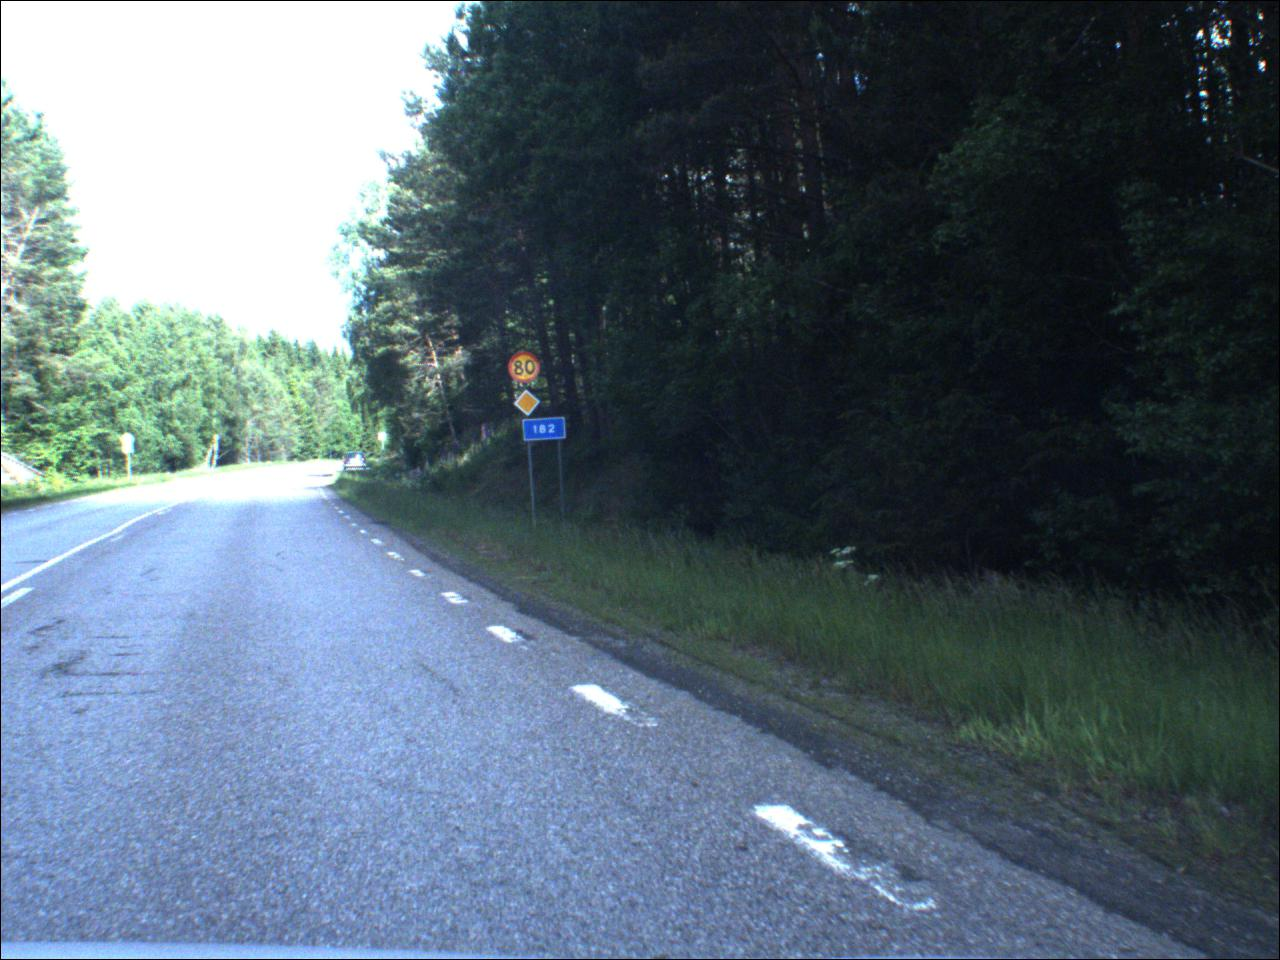80_SIGN: (510, 353, 543, 384)
PRIORITY_ROAD: (516, 391, 544, 419)
